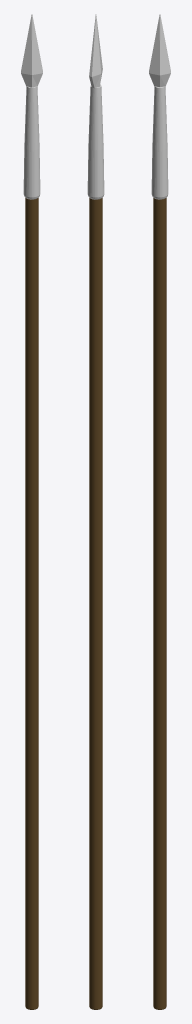
File: spear.fbx
3 renders of one model, left to right at view 1: azimuth 90°, elevation 25°; view 2: azimuth 150°, elevation 25°; view 3: azimuth 270°, elevation 25°, orthographic.
Visible parts, largest first — view 1: Cylinder; view 2: Cylinder; view 3: Cylinder.
Boxes of the visible parts, x1,y1,x2,y2 form: Cylinder: [21, 14, 42, 1009]; Cylinder: [87, 14, 104, 1009]; Cylinder: [149, 14, 170, 1009].
Size of the model in its own units: 3.51 by 229 by 4.65.
